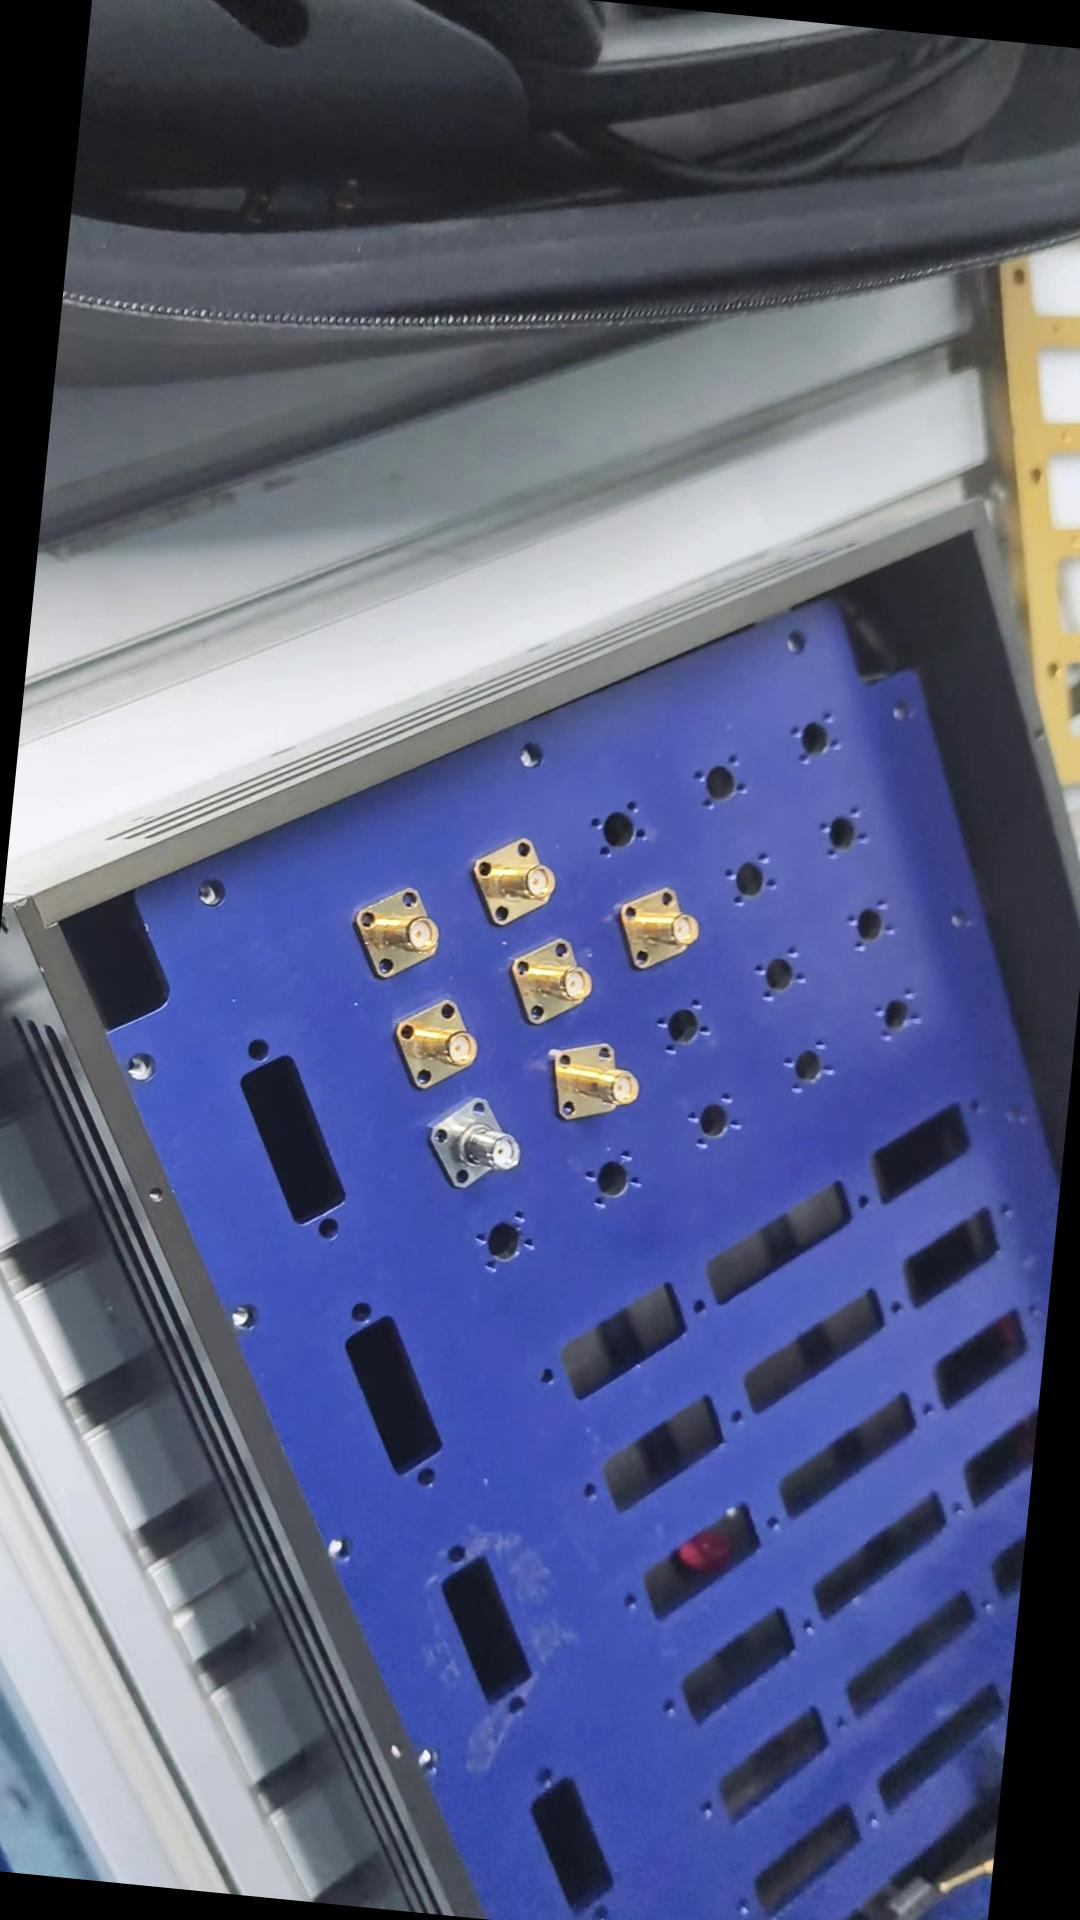SMA: (418, 1085, 529, 1197), (340, 872, 448, 984), (385, 986, 495, 1095), (502, 934, 605, 1033), (469, 831, 566, 927), (612, 881, 705, 978), (545, 1039, 638, 1125)
